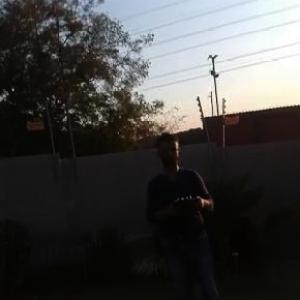follow: (142, 127, 226, 299)
